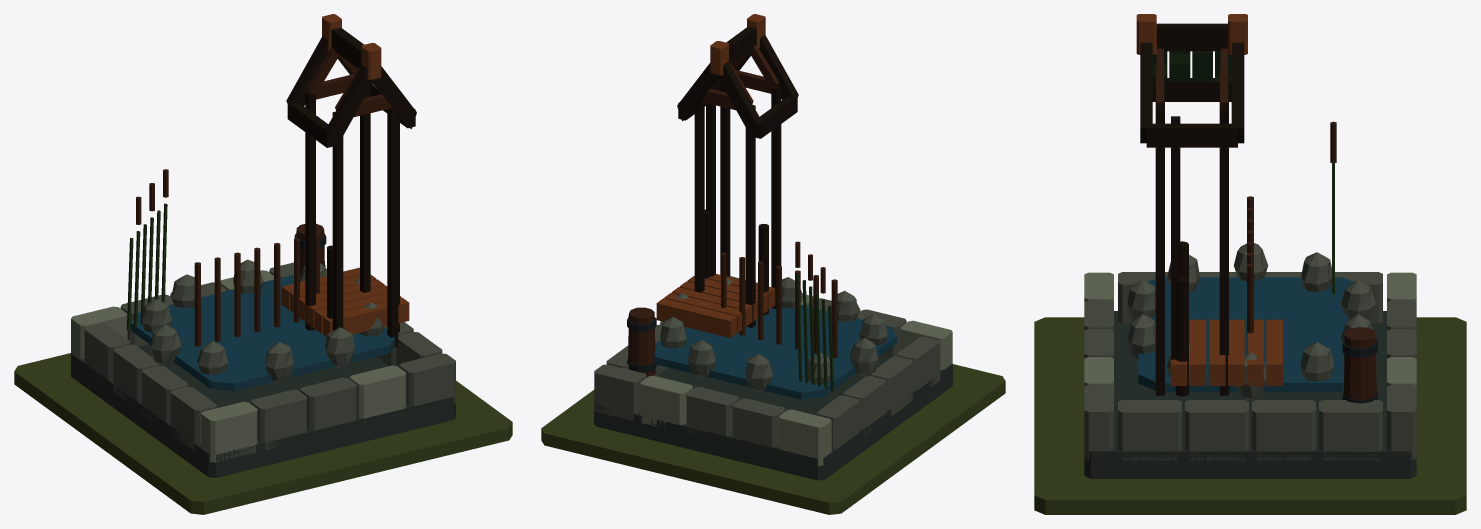
File: blackwater-weir_t6.glb
3 views of the same model, side by side, from view 1: azimuth 30°, elevation 25°; view 2: azimuth 150°, elevation 25°; view 3: azimuth 270°, elevation 25° (orthographic). The views are drawn at different scales.
Parts seen in each view (by area): view 1: MMR | blackwater-weir | T06 Architecture.001, MMR | blackwater-weir | Tier 06 Ground.001; view 2: MMR | blackwater-weir | T06 Architecture.001, MMR | blackwater-weir | Tier 06 Ground.001; view 3: MMR | blackwater-weir | T06 Architecture.001, MMR | blackwater-weir | Tier 06 Ground.001.
Part boxes in pixels (x1,y1,x2,y2): MMR | blackwater-weir | T06 Architecture.001: [71, 14, 455, 477]; MMR | blackwater-weir | Tier 06 Ground.001: [14, 353, 512, 514]; MMR | blackwater-weir | T06 Architecture.001: [594, 14, 952, 480]; MMR | blackwater-weir | Tier 06 Ground.001: [541, 364, 1005, 514]; MMR | blackwater-weir | T06 Architecture.001: [1084, 14, 1416, 478]; MMR | blackwater-weir | Tier 06 Ground.001: [1034, 317, 1466, 514].
Bounding box in the file's own units: 1.3 × 1.46 × 1.3.
1 material, 1 textured.
